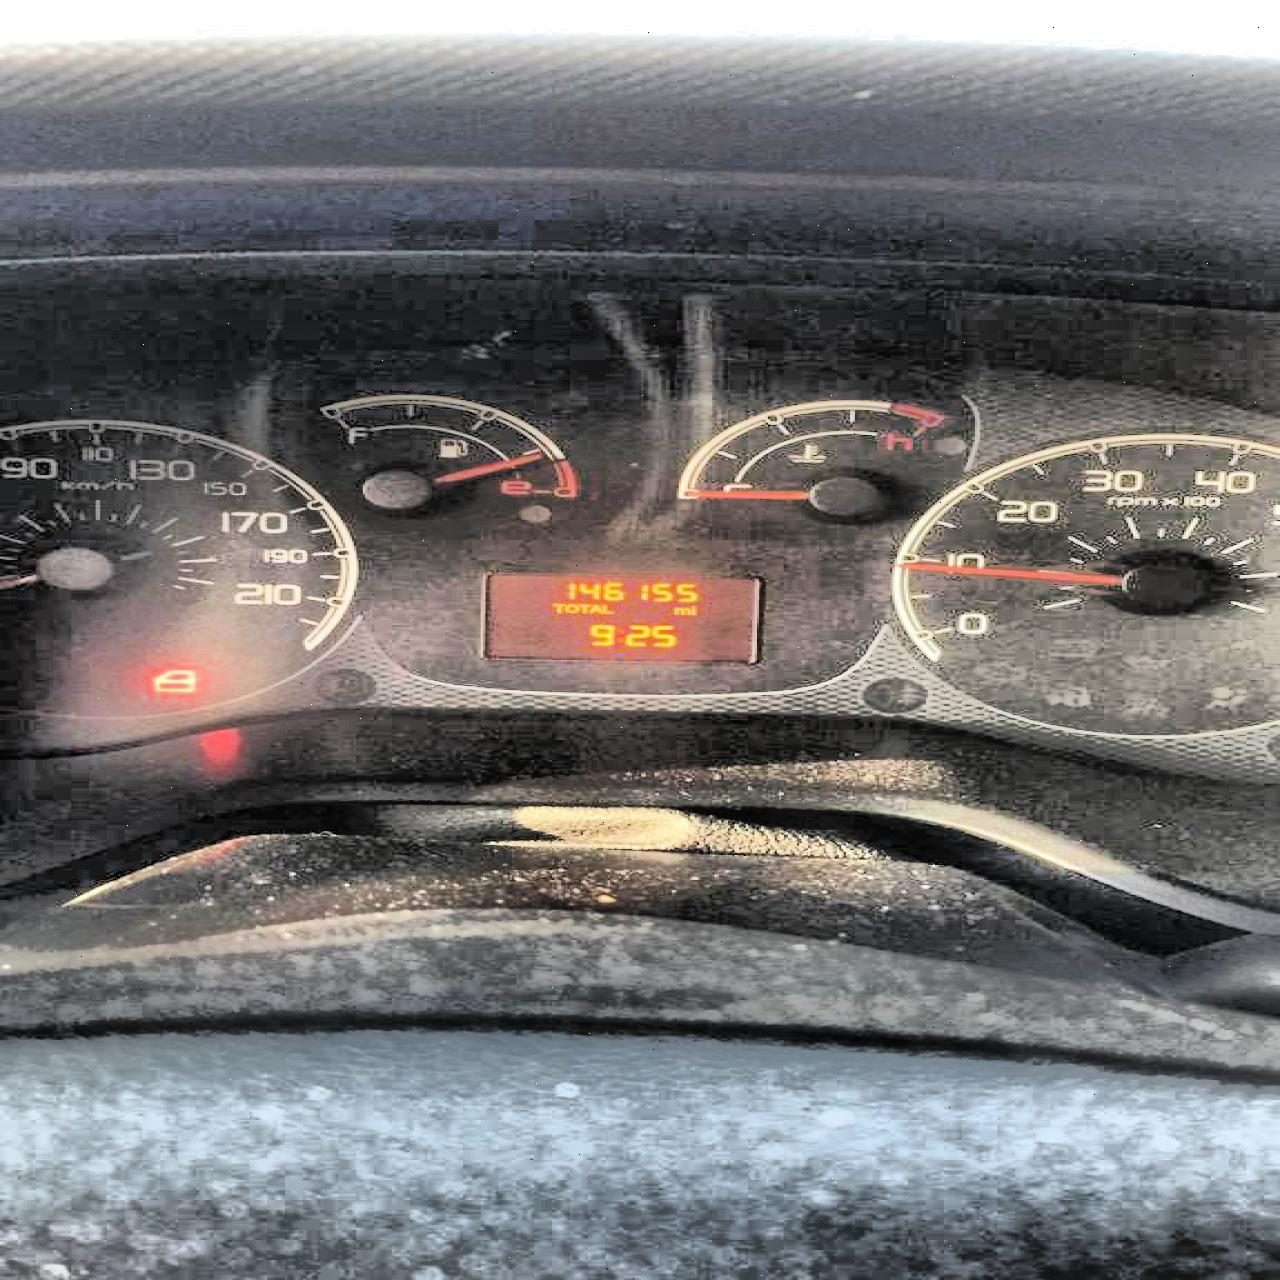1: (636, 581, 647, 601), (565, 580, 574, 600)
2: (624, 624, 648, 646)
4: (577, 580, 599, 600)
5: (651, 624, 675, 646), (673, 581, 696, 601), (648, 583, 673, 601)
6: (601, 580, 624, 600)
9: (587, 622, 614, 647)
X: (672, 606, 690, 615), (550, 601, 564, 613), (601, 602, 614, 613), (564, 602, 577, 613), (577, 602, 587, 613), (614, 627, 621, 642), (590, 602, 599, 613), (690, 604, 695, 614)
odometer: (475, 567, 765, 665)
